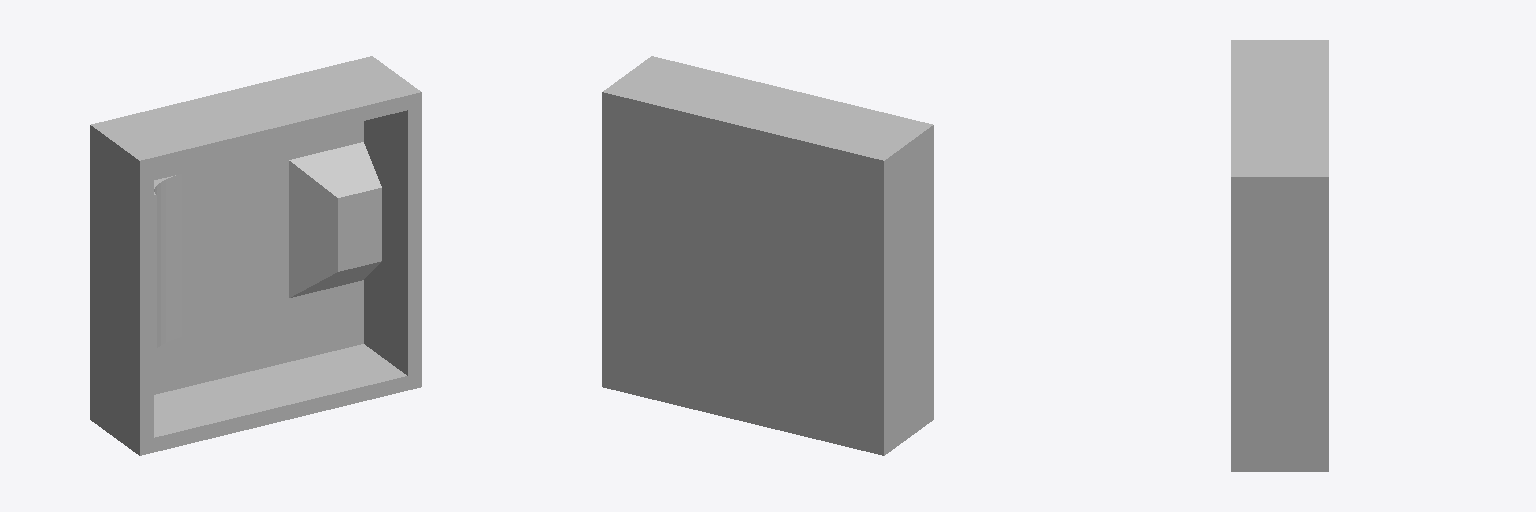
File: map4.obj
3 renders of one model, left to right at view 1: azimuth 30°, elevation 25°; view 2: azimuth 150°, elevation 25°; view 3: azimuth 270°, elevation 25°, orthographic.
Size of the model in its own units: 16 by 16 by 4.86.